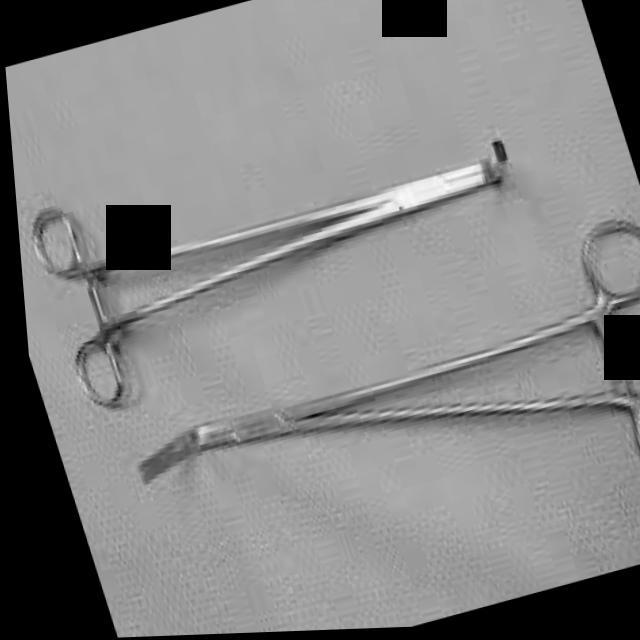Rectangle Cholecystectomy Forceps: (76, 206, 640, 638), (5, 65, 548, 409)
